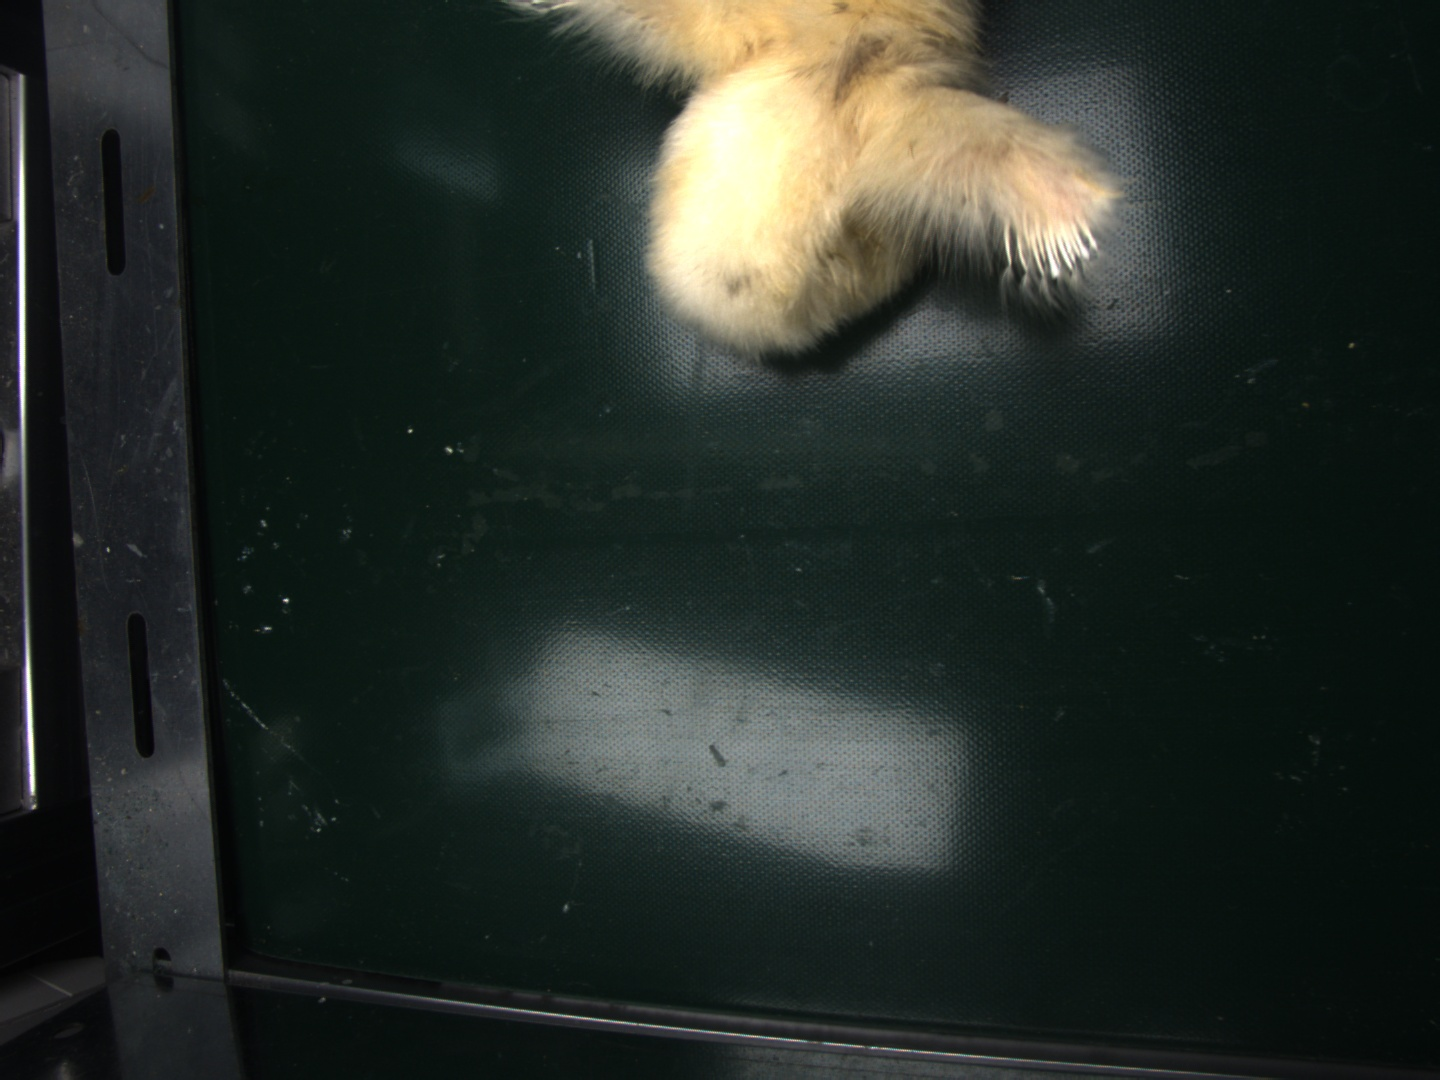male: (1009, 216, 1098, 272)
